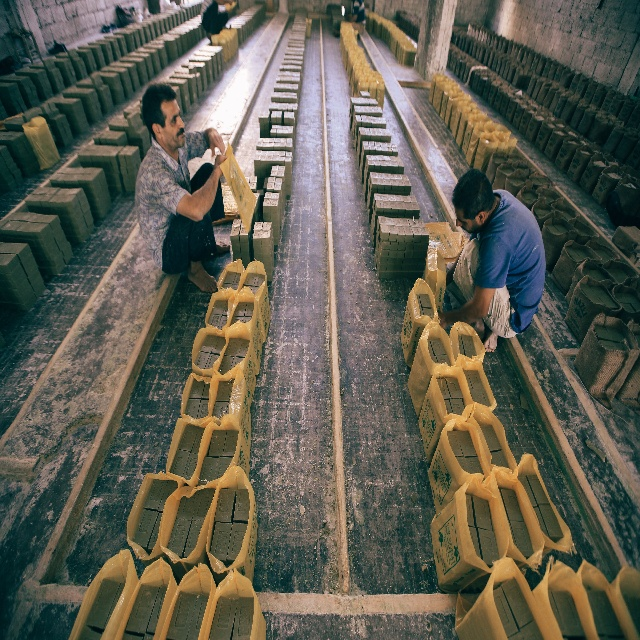Sin_guantes: (206, 127, 226, 157), (214, 153, 227, 177)
